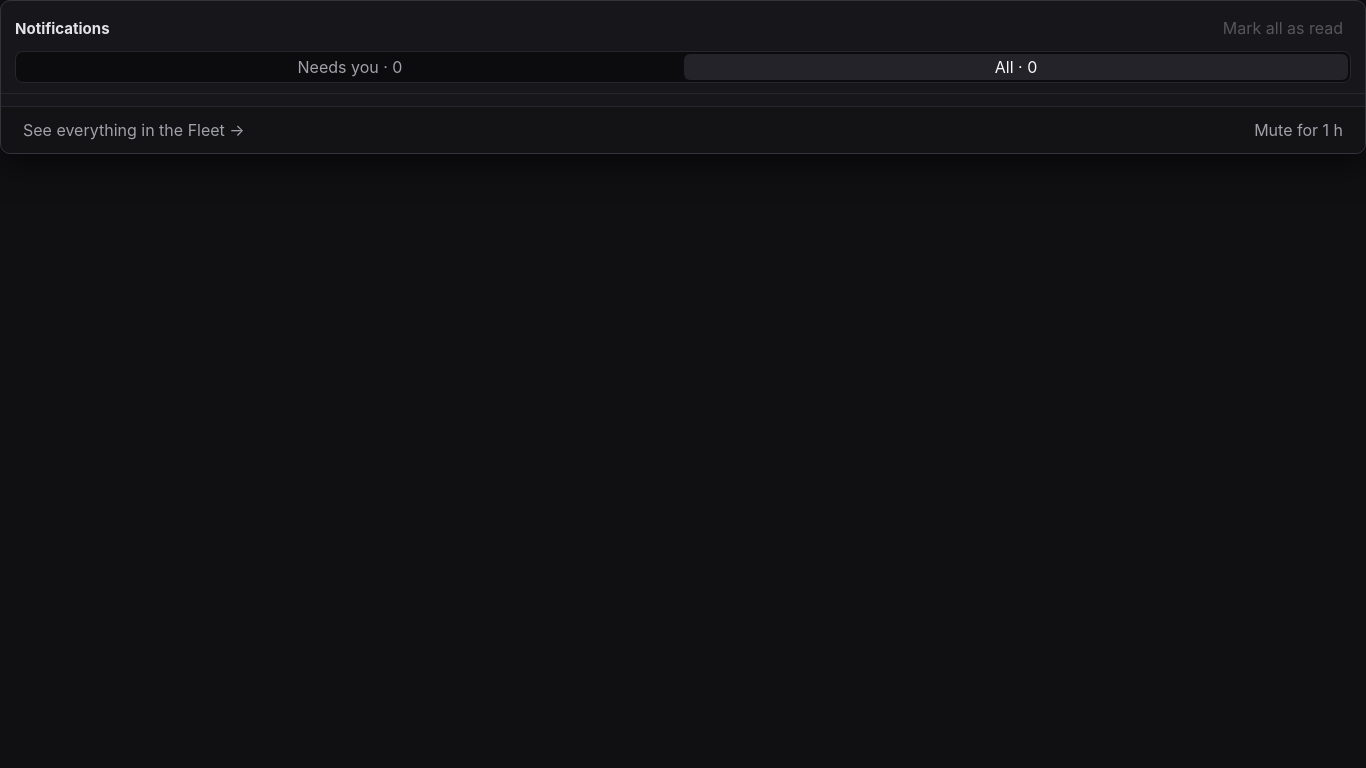
NotificationCenter › Given nothing waiting, when the center opens, then it starts on all and the attention tab is empty
Expected: the text "No agent is waiting for you." is not shown
Click the button "Needs you · 0". click: point(350, 67)
box: [18,54,682,80]
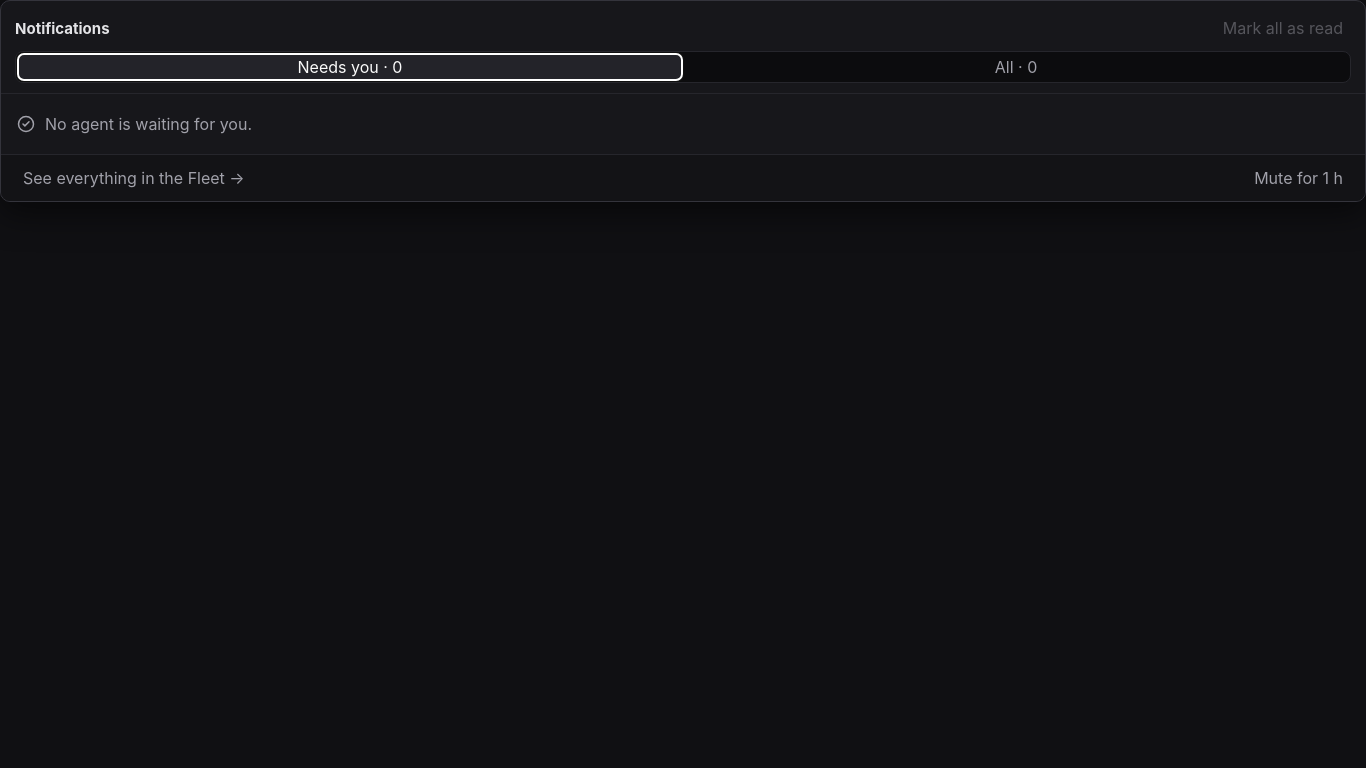
Expected: the text "No agent is waiting for you." is shown, [45,114,252,134]
